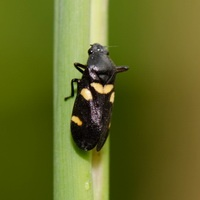insect: (64, 43, 127, 150)
